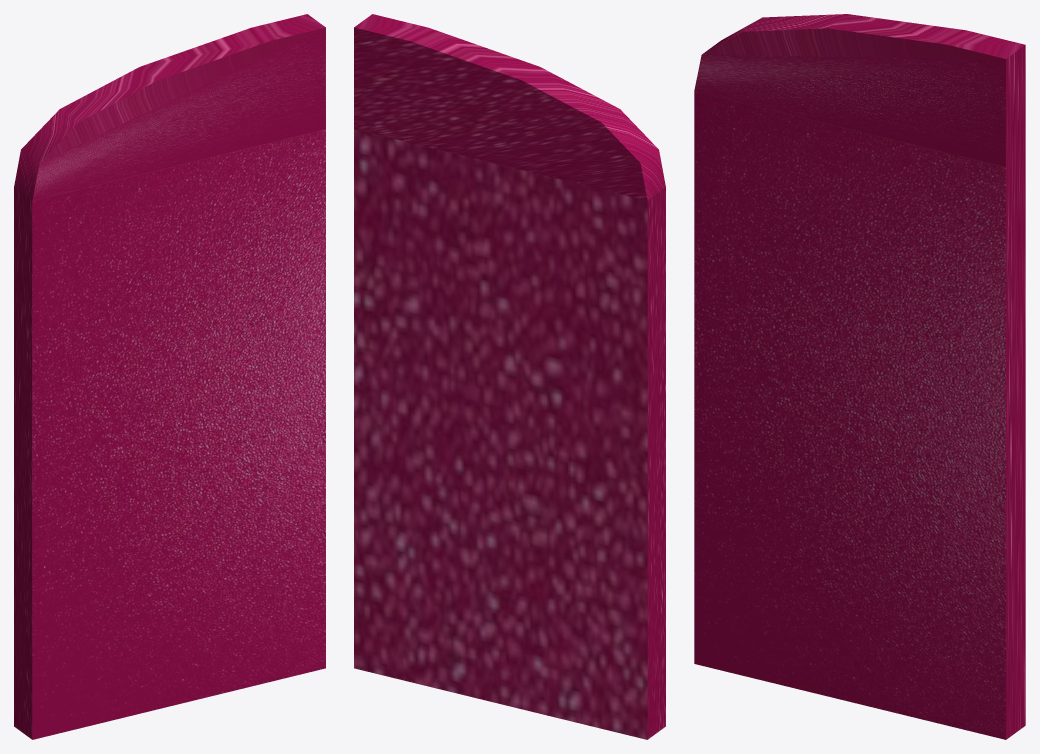
Rendered from Porton_izq.obj.
The picture shows the model from 3 angles, left to right: view 1: azimuth 30°, elevation 25°; view 2: azimuth 150°, elevation 25°; view 3: azimuth 330°, elevation 25°; orthographic projection. The views are drawn at different scales.
Parts seen in each view (by area): view 1: pasted__polySurface83 pasted__polySurface81 group31; view 2: pasted__polySurface83 pasted__polySurface81 group31; view 3: pasted__polySurface83 pasted__polySurface81 group31.
Part boxes in pixels (box(x1,y1,x2,y2)): pasted__polySurface83 pasted__polySurface81 group31: box(14, 14, 325, 739); pasted__polySurface83 pasted__polySurface81 group31: box(354, 14, 665, 739); pasted__polySurface83 pasted__polySurface81 group31: box(694, 14, 1025, 739).
Size of the model in its own units: 0.4018 by 0.8383 by 0.0438.
2 materials, 2 textured.
